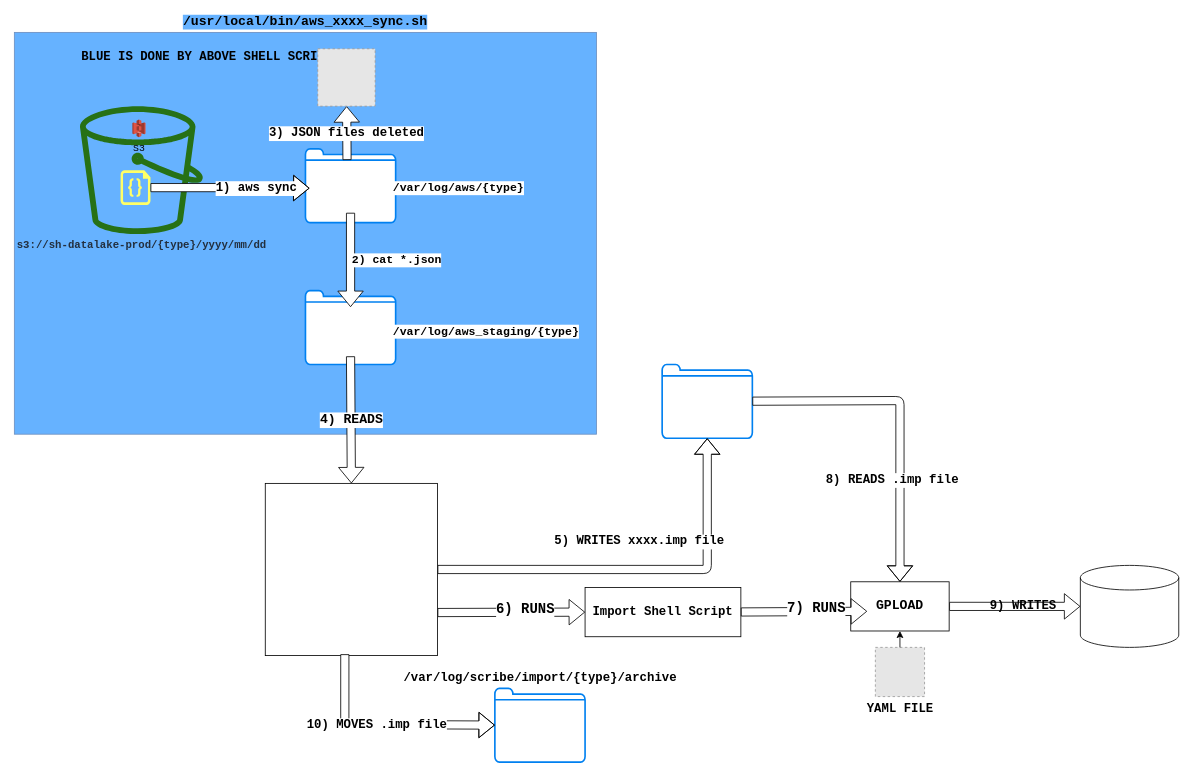
This 1193x777 diagram has some shape labels left out. Grey dashed boxes stand in for pictures. The shapes that lost their labels are listed below. From the top down, each one's centre as x and y in pixels, then its label:
At pixel 135 187: "JSON FILES".
At pixel 707 401: "/var/log/scribe/import/{type}".
At pixel 350 569: "aggregator".
At pixel 1129 606: "GREENPLUM".
